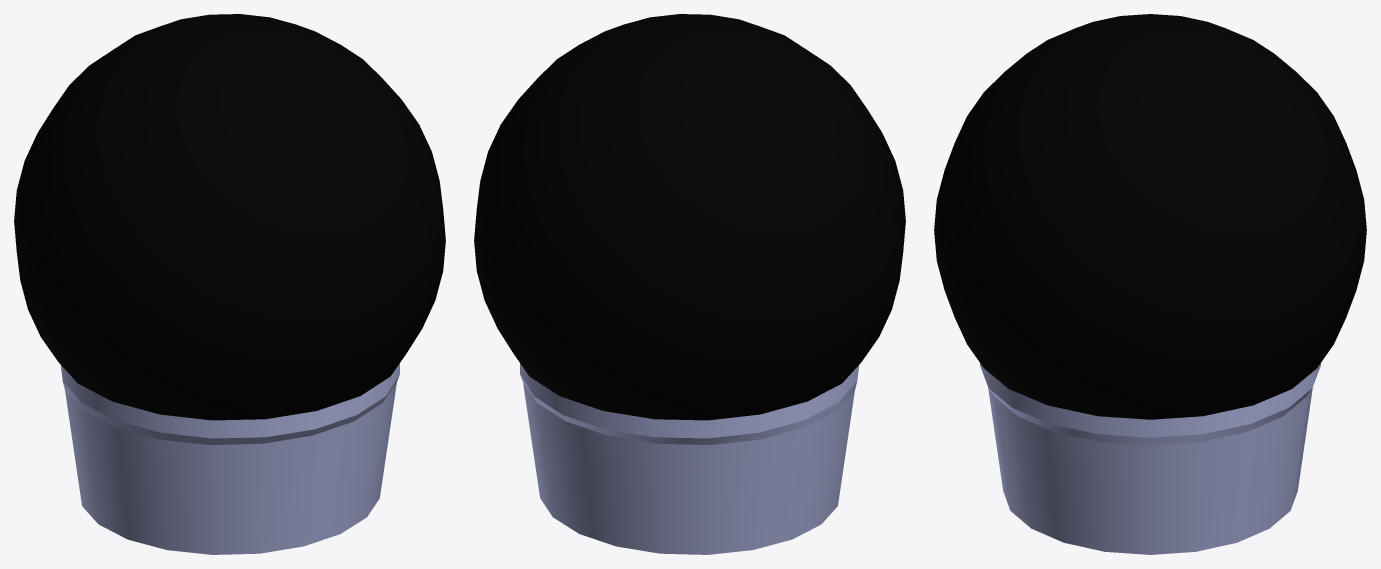
The model's file is snowball.fbx.
3 views of the same model, side by side, from view 1: azimuth 30°, elevation 25°; view 2: azimuth 150°, elevation 25°; view 3: azimuth 270°, elevation 25° (orthographic).
Parts seen in each view (by area): view 1: pSphere5, pCylinder3; view 2: pSphere5, pCylinder3; view 3: pSphere5, pCylinder3.
Part boxes in pixels (box(x1,y1,x2,y2)): pSphere5: box(14, 14, 445, 420); pCylinder3: box(60, 363, 399, 554); pSphere5: box(474, 14, 905, 420); pCylinder3: box(520, 363, 859, 554); pSphere5: box(934, 14, 1366, 419); pCylinder3: box(980, 363, 1320, 554).
Bounding box in the file's own units: 1.7 × 1.99 × 1.7.
